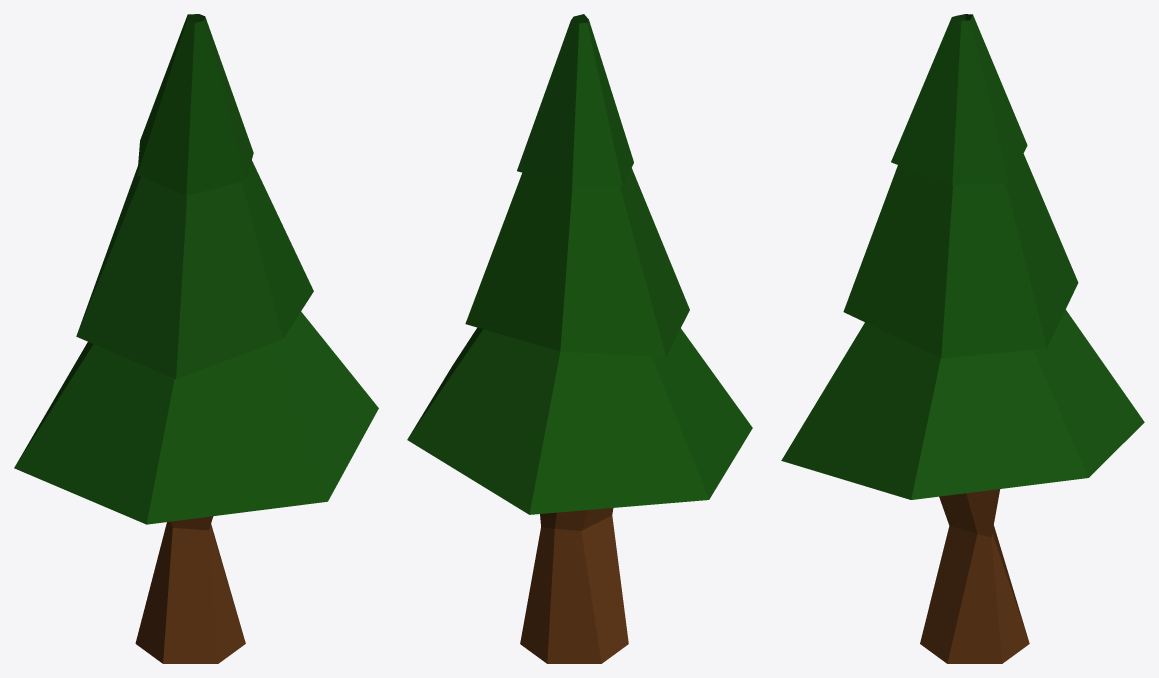
File: Sapling.fbx
3 renders of one model, left to right at view 1: azimuth 30°, elevation 25°; view 2: azimuth 150°, elevation 25°; view 3: azimuth 270°, elevation 25°, orthographic.
Visible parts, largest first — view 1: Sapling; view 2: Sapling; view 3: Sapling.
Part boxes in pixels (box(x1,y1,x2,y2)): Sapling: box(14, 14, 378, 663); Sapling: box(407, 14, 752, 663); Sapling: box(781, 14, 1144, 663).
Size of the model in its own units: 33.91 by 65.32 by 34.29.
